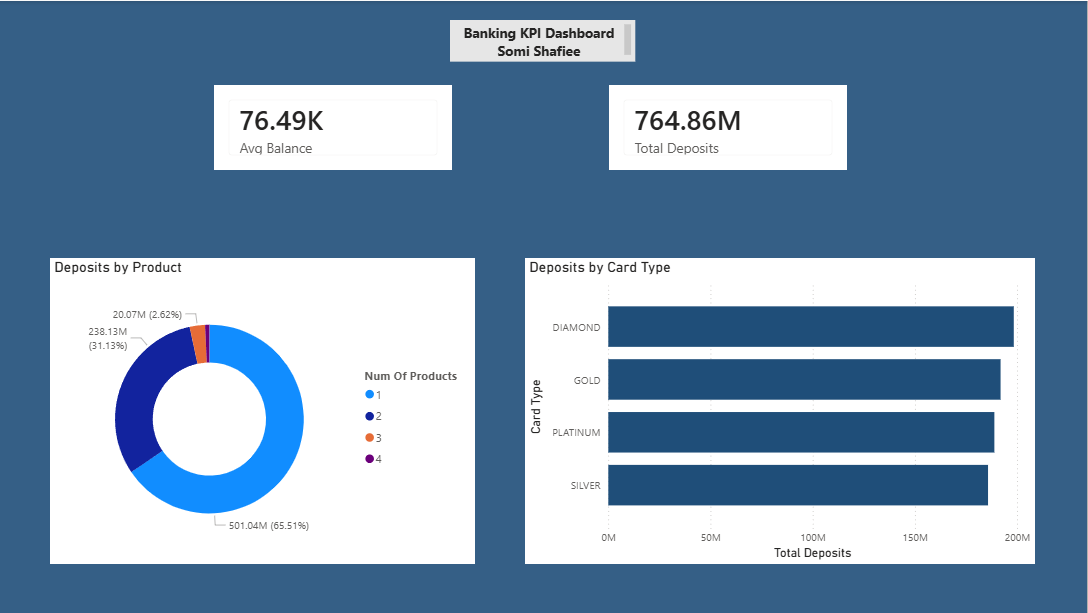

What the dashboard file says about the page in this screenshot:
{"tool":"powerbi","page":{"name":"Deposits & Balances","canvas":[1280,720],"ordinal":1},"visuals":[{"type":"cardVisual","fields":{"Data":["Customer-Churn-Records (2).Avg Balance"]},"box":[252.9,98.8,280,100],"z":0},{"type":"cardVisual","fields":{"Data":["Customer-Churn-Records (2).Total Deposits"]},"box":[717.6,98.8,280,100],"z":1000},{"type":"donutChart","title":"Deposits by Product","fields":{"Category":["Customer-Churn-Records (2).Num Of Products"],"Y":["Customer-Churn-Records (2).Total Deposits"]},"box":[60,302.4,500,360],"z":2000},{"type":"clusteredBarChart","title":"Deposits by Card Type","fields":{"Y":["Customer-Churn-Records (2).Total Deposits"],"Category":["Customer-Churn-Records (2).Card Type"]},"box":[618.8,302.4,600,360],"z":3000},{"type":"textbox","box":[530,22,217.6,49.4],"z":4000}]}

Visuals, with their boxes in screenshot pixels (x1, y1, x2, y2), scaled from the page's 1280x720 canvas onto the 1088x613 screenshot:
cardVisual - Customer-Churn-Records (2).Avg Balance: <box>215,84,453,169</box>
cardVisual - Customer-Churn-Records (2).Total Deposits: <box>610,84,848,169</box>
"Deposits by Product" donutChart: <box>51,257,476,564</box>
"Deposits by Card Type" clusteredBarChart: <box>526,257,1036,564</box>
textbox: <box>450,19,635,61</box>
